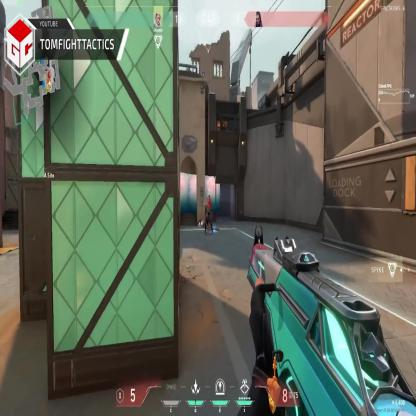enemy: (204, 195, 214, 236)
enemy_head: (208, 196, 210, 203)
